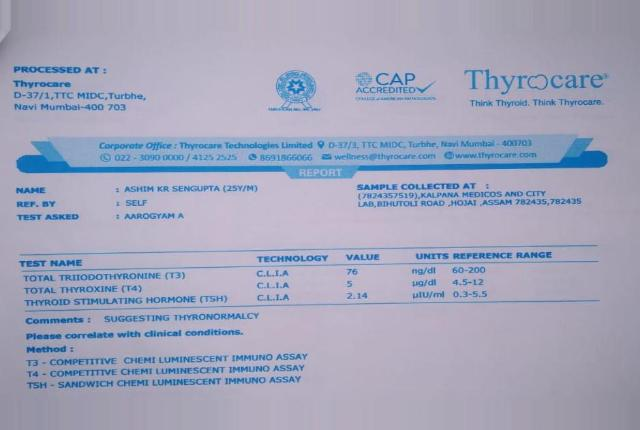Clinical_Conditions: (20, 354, 373, 395)
Name: (122, 182, 261, 194)
Ref_By: (123, 198, 160, 209)
Reference_Range: (450, 265, 491, 302)
Technology: (251, 267, 297, 307)
Test_Asked: (122, 211, 191, 225)
Test_Name: (19, 269, 233, 308)
Unit: (407, 266, 447, 304)
Value: (340, 266, 378, 304)
